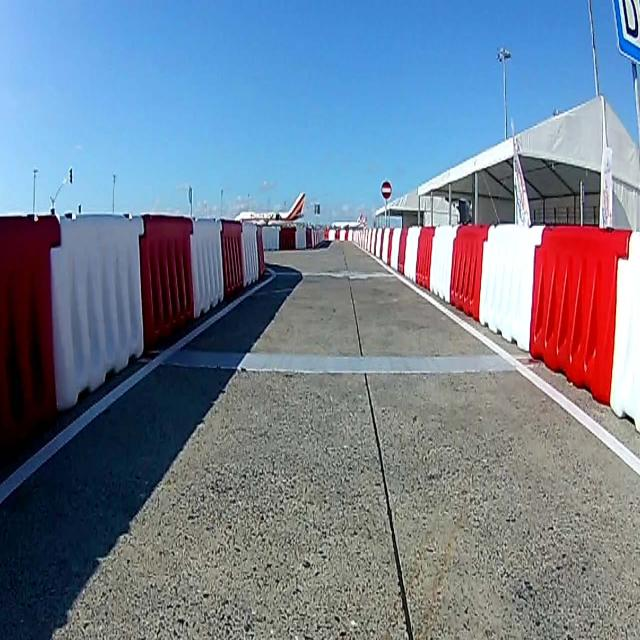girisyok: (381, 179, 392, 199)
